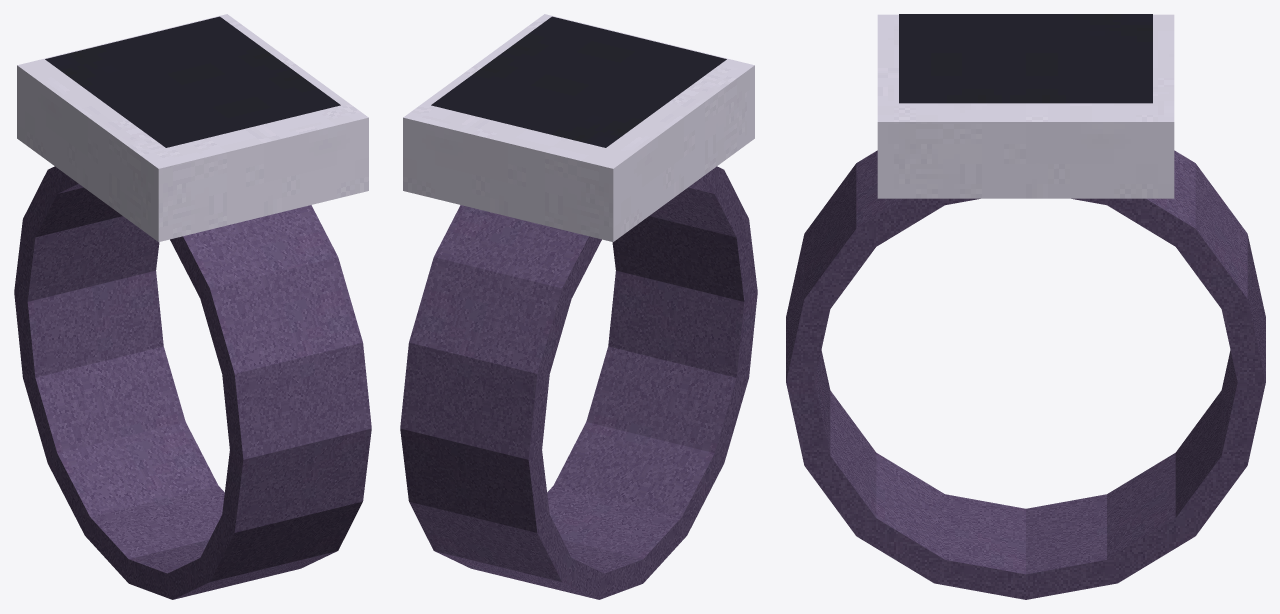
3 renders of one model, left to right at view 1: azimuth 30°, elevation 25°; view 2: azimuth 150°, elevation 25°; view 3: azimuth 270°, elevation 25°, orthographic. The views are drawn at different scales.
Visible parts, largest first — view 1: watch, Screen; view 2: watch, Screen; view 3: watch, Screen.
Boxes of the visible parts, x1,y1,x2,y2 form: watch: (14,14,371,599); Screen: (45,16,340,147); watch: (400,14,757,599); Screen: (431,16,726,147); watch: (786,14,1265,599); Screen: (899,14,1152,103).
Bounding box in the file's own units: 0.036 × 0.0795 × 0.068.
3 materials, 3 textured.
